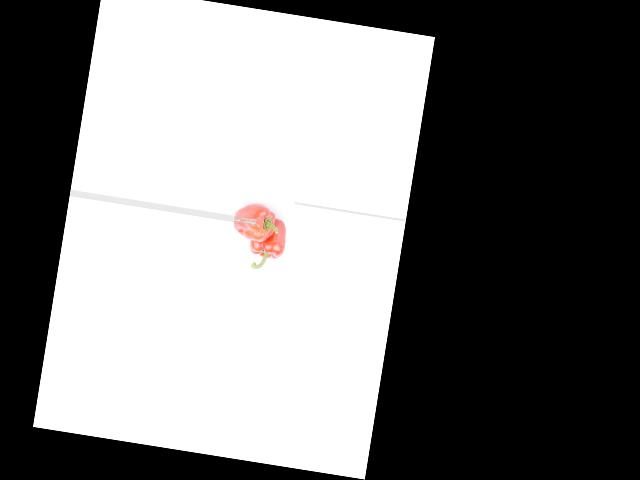bell_pepper: (225, 200, 280, 247)
